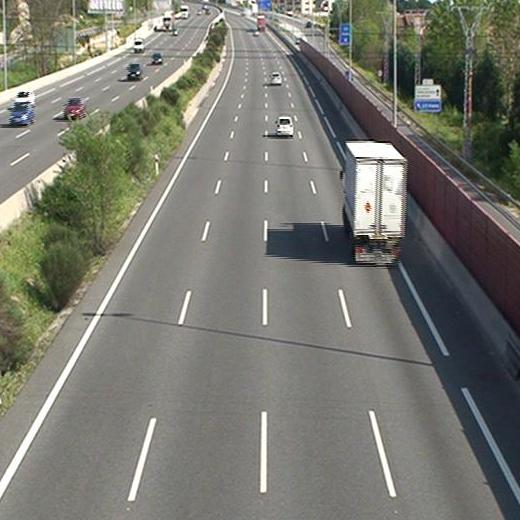car: (275, 116, 293, 135), (269, 72, 282, 85)
small-truck: (342, 142, 405, 264)
